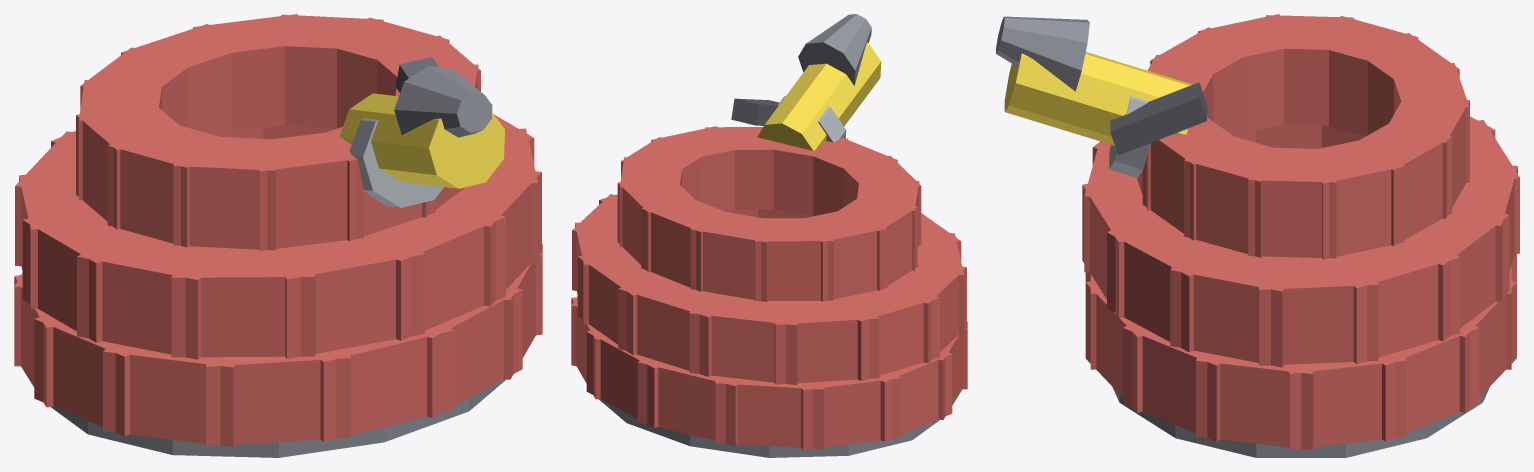
The model's file is fire_hose.glb.
3 views of the same model, side by side, from view 1: azimuth 30°, elevation 25°; view 2: azimuth 150°, elevation 25°; view 3: azimuth 270°, elevation 25° (orthographic). The views are drawn at different scales.
Parts seen in each view (by area): view 1: fire_hose; view 2: fire_hose; view 3: fire_hose.
Boxes of the visible parts, box(x1,y1,x2,y2) form: fire_hose: box(14, 14, 542, 457); fire_hose: box(571, 14, 967, 457); fire_hose: box(996, 14, 1519, 457).
Bounding box in the file's own units: 0.75 × 0.5662 × 0.75.
